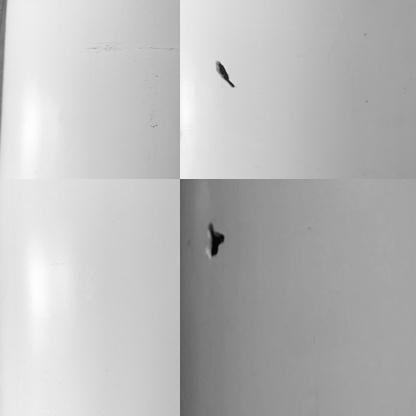kongdong: (198, 217, 229, 264), (207, 55, 244, 94)
